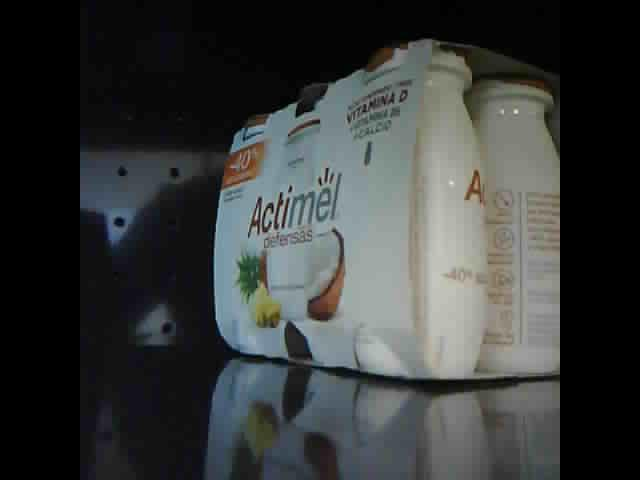actimel: (214, 36, 560, 384)
